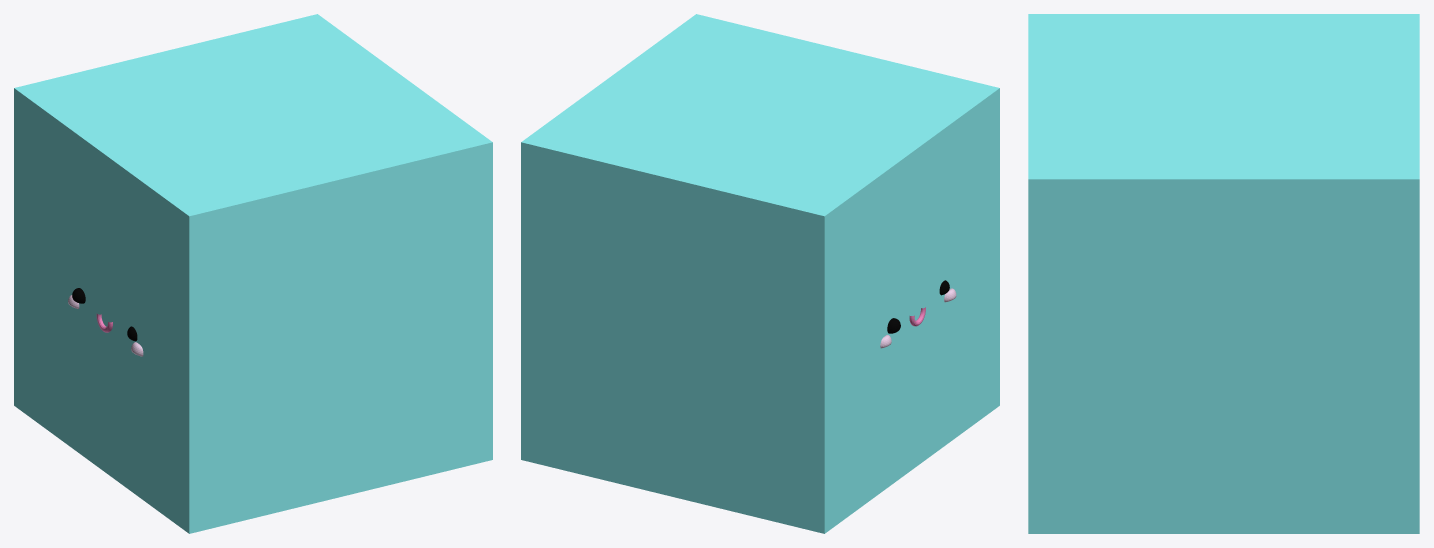
File: cube_bigboi.glb
3 renders of one model, left to right at view 1: azimuth 30°, elevation 25°; view 2: azimuth 150°, elevation 25°; view 3: azimuth 270°, elevation 25°, orthographic. The views are drawn at different scales.
Visible parts, largest first — view 1: body; view 2: body; view 3: body.
Boxes of the visible parts, x1=… form: body: x1=14, y1=14, x2=492, y2=533; body: x1=521, y1=14, x2=999, y2=533; body: x1=1028, y1=14, x2=1419, y2=533.
Bounding box in the file's own units: 4.74 × 4.62 × 4.62.
